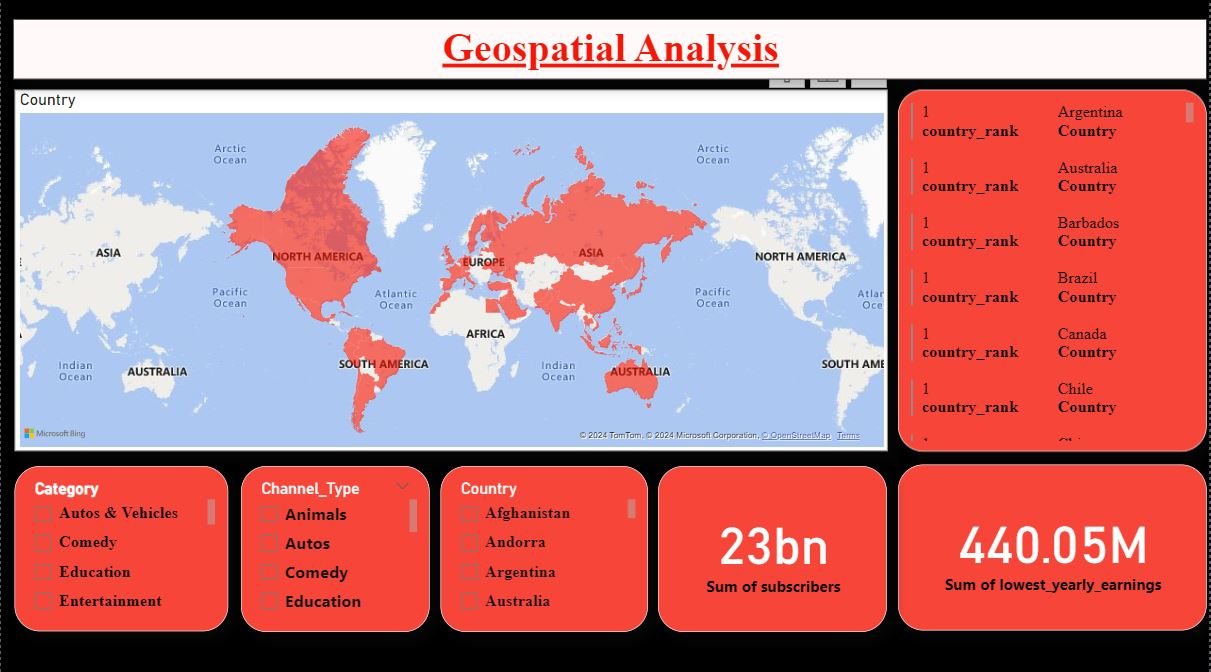

Layout of this report page (visuals, bound fields, positions):
{"tool":"powerbi","page":{"name":"Page 1","canvas":[1280,720],"ordinal":0},"visuals":[{"type":"filledMap","fields":{"Category":["Global YouTube Statistics.Country"]},"box":[14.5,100.1,926.2,383.5],"z":0},{"type":"slicer","fields":{"Values":["Global YouTube Statistics.category"]},"box":[13.7,499.5,226.4,175.6],"z":1000},{"type":"slicer","fields":{"Values":["Global YouTube Statistics.channel_type"]},"box":[254.3,500,200,175.7],"z":2000},{"type":"slicer","fields":{"Values":["Global YouTube Statistics.Country"]},"box":[465.7,500,220,175.7],"z":3000},{"type":"textbox","box":[13.3,25.3,1266.3,63.9],"z":4000},{"type":"multiRowCard","fields":{"Values":["Global YouTube Statistics.country_rank","Global YouTube Statistics.Country"]},"box":[950.8,100.8,327.1,384.1],"z":5000},{"type":"card","fields":{"Values":["Sum(Global YouTube Statistics.lowest_yearly_earnings)"]},"box":[951.4,498.6,327.1,175.7],"z":6000},{"type":"card","fields":{"Values":["Sum(Global YouTube Statistics.subscribers)"]},"box":[697.1,500,242.9,175.7],"z":7000}]}

Visuals, with their boxes in screenshot pixels (x1, y1, x2, y2), scaled from the page's 1280x720 canvas onto the 1211x672 screenshot:
filledMap - Global YouTube Statistics.Country: {"left": 14, "top": 93, "right": 890, "bottom": 451}
slicer - Global YouTube Statistics.category: {"left": 13, "top": 466, "right": 227, "bottom": 630}
slicer - Global YouTube Statistics.channel_type: {"left": 241, "top": 467, "right": 430, "bottom": 631}
slicer - Global YouTube Statistics.Country: {"left": 441, "top": 467, "right": 649, "bottom": 631}
textbox: {"left": 13, "top": 24, "right": 1210, "bottom": 83}
multiRowCard - Global YouTube Statistics.country_rank x Global YouTube Statistics.Country: {"left": 900, "top": 94, "right": 1209, "bottom": 453}
card - Sum(Global YouTube Statistics.lowest_yearly_earnings): {"left": 900, "top": 465, "right": 1210, "bottom": 629}
card - Sum(Global YouTube Statistics.subscribers): {"left": 660, "top": 467, "right": 889, "bottom": 631}
